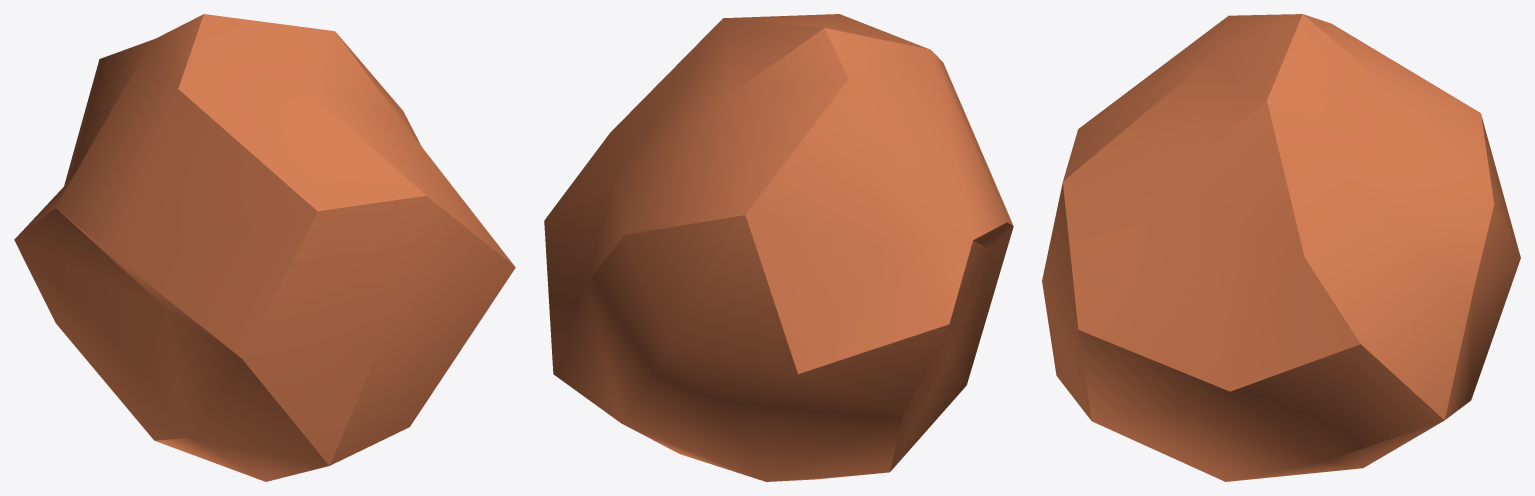
Rendered from Piedra3.fbx.
3 renders of one model, left to right at view 1: azimuth 30°, elevation 25°; view 2: azimuth 150°, elevation 25°; view 3: azimuth 270°, elevation 25°, orthographic. The views are drawn at different scales.
Parts seen in each view (by area): view 1: Piedra 3; view 2: Piedra 3; view 3: Piedra 3.
Part boxes in pixels (x1,y1,x2,y2): Piedra 3: (14, 14, 515, 481); Piedra 3: (544, 14, 1013, 481); Piedra 3: (1042, 14, 1520, 481).
Bounding box in the file's own units: 758 × 825 × 813.
